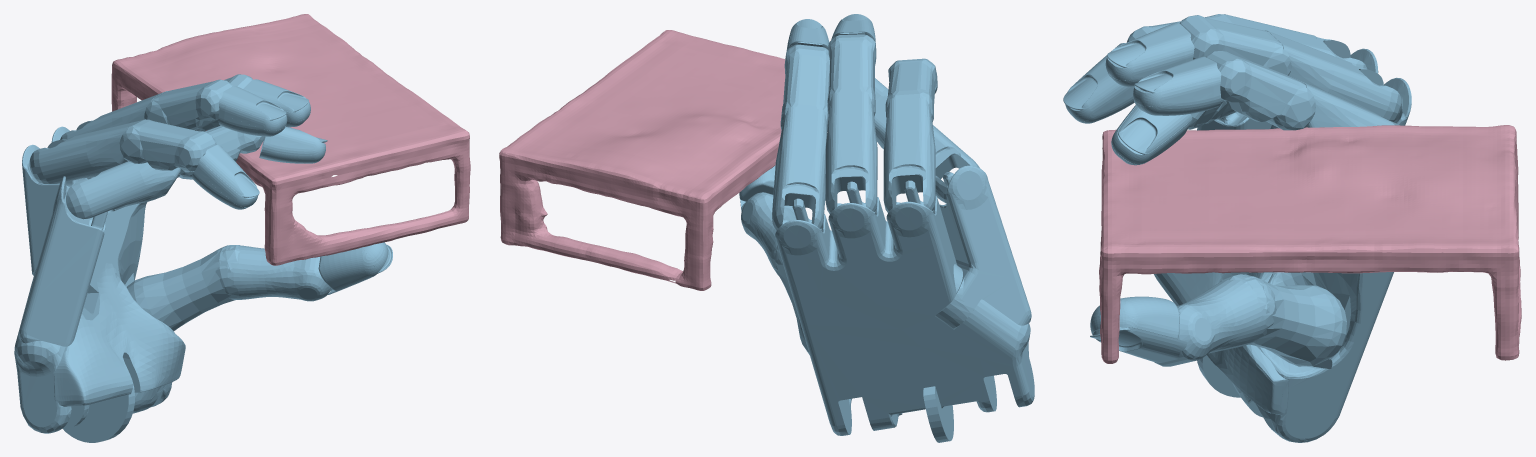
3 views of the same model, side by side, from view 1: azimuth 30°, elevation 25°; view 2: azimuth 150°, elevation 25°; view 3: azimuth 270°, elevation 25° (orthographic). The views are drawn at different scales.
Parts seen in each view (by area): view 1: hand, world; view 2: hand, world; view 3: world, hand.
Part boxes in pixels (x1=…): hand: x1=14, y1=74, x2=392, y2=442; world: x1=111, y1=14, x2=470, y2=265; hand: x1=739, y1=14, x2=1034, y2=442; world: x1=499, y1=30, x2=785, y2=290; world: x1=1099, y1=125, x2=1521, y2=363; hand: x1=1063, y1=14, x2=1411, y2=442.
Bounding box in the file's own units: 0.1851 × 0.1523 × 0.1433.
